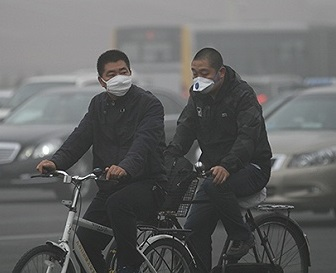person: (36, 49, 167, 273), (166, 46, 271, 263)
